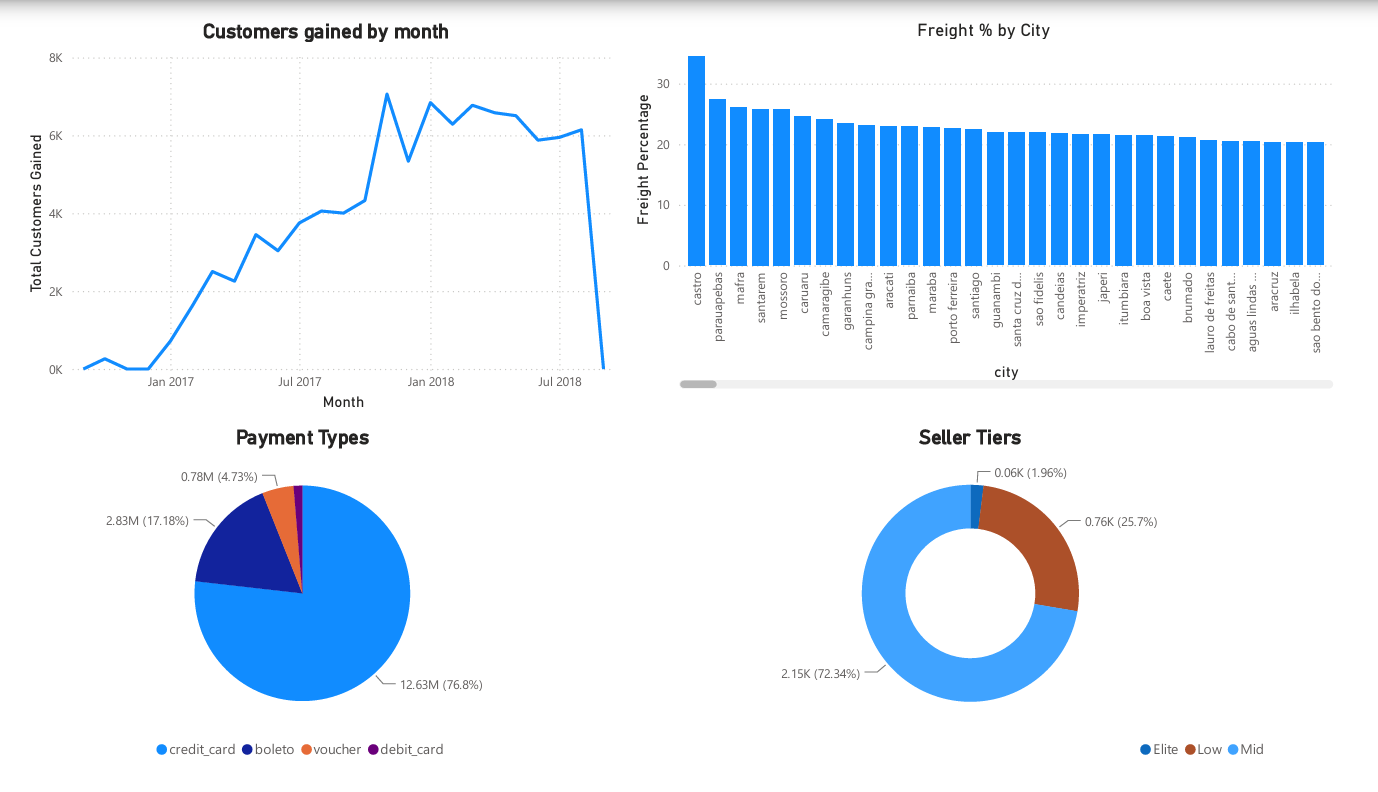

The dashboard page shown, as its layout file describes it:
{"tool":"powerbi","page":{"name":"Page 1","canvas":[1280,720],"ordinal":0},"visuals":[{"type":"lineChart","title":"Customers gained by month","fields":{"Category":["olist1.cohort_month.Variation.Date Hierarchy.Year","olist1.cohort_month.Variation.Date Hierarchy.Month"],"Y":["Sum(olist1.total_customers_gained)"]},"box":[0,0,584.1,380.1],"z":0},{"type":"pieChart","title":"Payment Types","fields":{"Category":["olist3.payment_type"],"Y":["Sum(olist3.total_revenue)"]},"box":[0,390,538.3,330],"z":1000},{"type":"donutChart","title":"Seller Tiers","fields":{"Category":["olist2.seller_tier"],"Y":["CountNonNull(olist2.seller_tier)"]},"box":[618.3,390,583.3,330],"z":2000},{"type":"lineClusteredColumnComboChart","title":"Freight % by City","fields":{"Category":["olist4.city"],"Y":["Sum(olist4.freight_percentage)"]},"box":[583.3,0,680,360],"z":3000}]}

Visuals, with their boxes in screenshot pixels (x1, y1, x2, y2), scaled from the page's 1280x720 canvas onto the 1378x792 screenshot:
"Customers gained by month" lineChart: {"x1": 0, "y1": 0, "x2": 629, "y2": 418}
"Payment Types" pieChart: {"x1": 0, "y1": 429, "x2": 580, "y2": 791}
"Seller Tiers" donutChart: {"x1": 666, "y1": 429, "x2": 1294, "y2": 791}
"Freight % by City" lineClusteredColumnComboChart: {"x1": 628, "y1": 0, "x2": 1360, "y2": 396}
